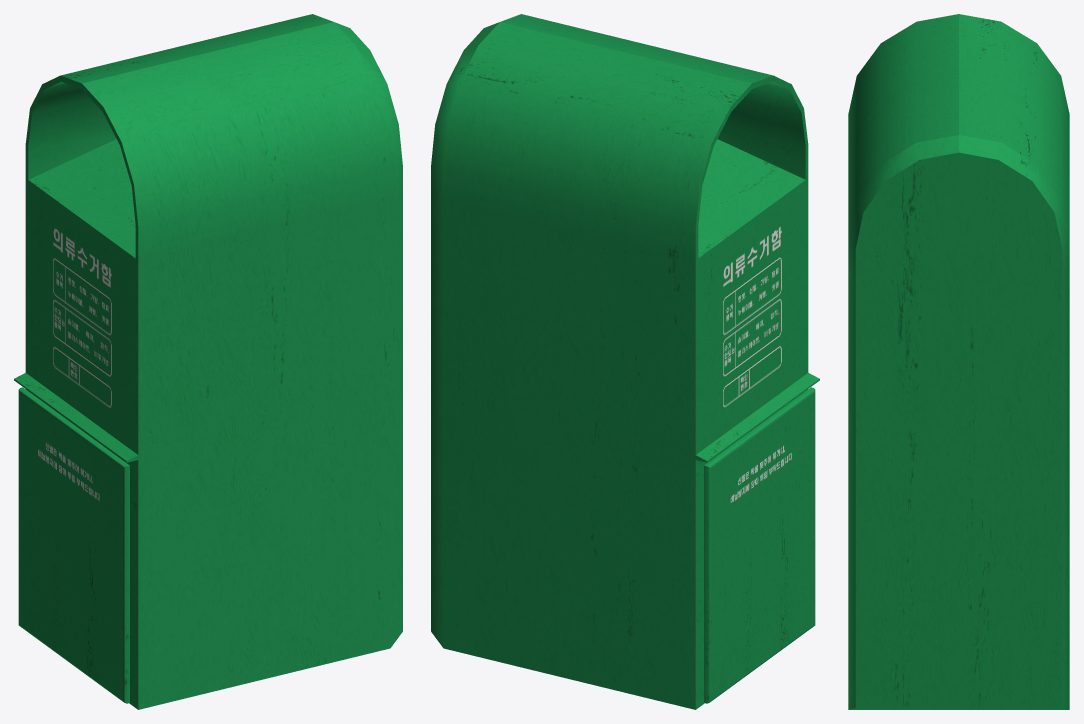
The model's file is oldclothesbox.fbx.
3 views of the same model, side by side, from view 1: azimuth 30°, elevation 25°; view 2: azimuth 150°, elevation 25°; view 3: azimuth 270°, elevation 25° (orthographic).
Visible parts, largest first — view 1: trash; view 2: trash; view 3: trash.
Part boxes in pixels (x1,y1,x2,y2): trash: (14, 14, 402, 709); trash: (431, 14, 819, 709); trash: (848, 14, 1069, 709).
Size of the model in its own units: 0.0437 by 0.0872 by 0.0304.
Materials: 1 (1 with a texture image).
